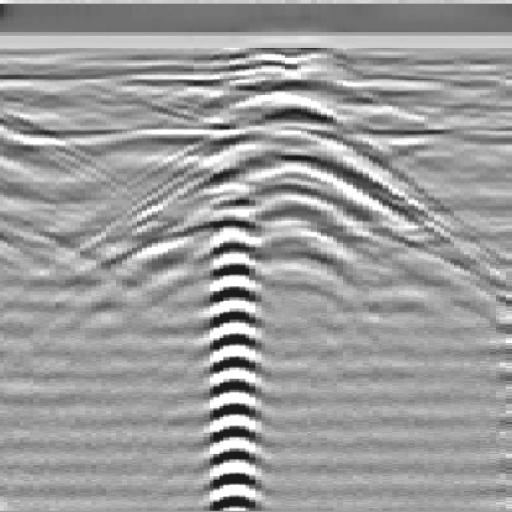metalic: (85, 46, 486, 415)
